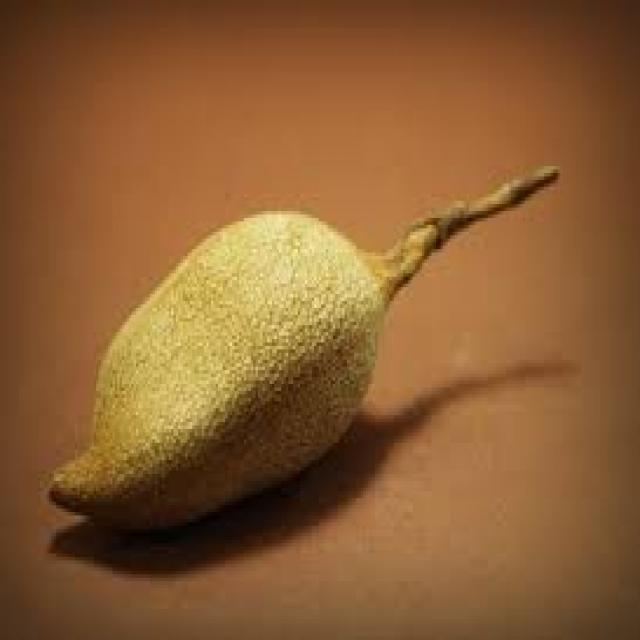organic waste: (37, 201, 387, 529)
